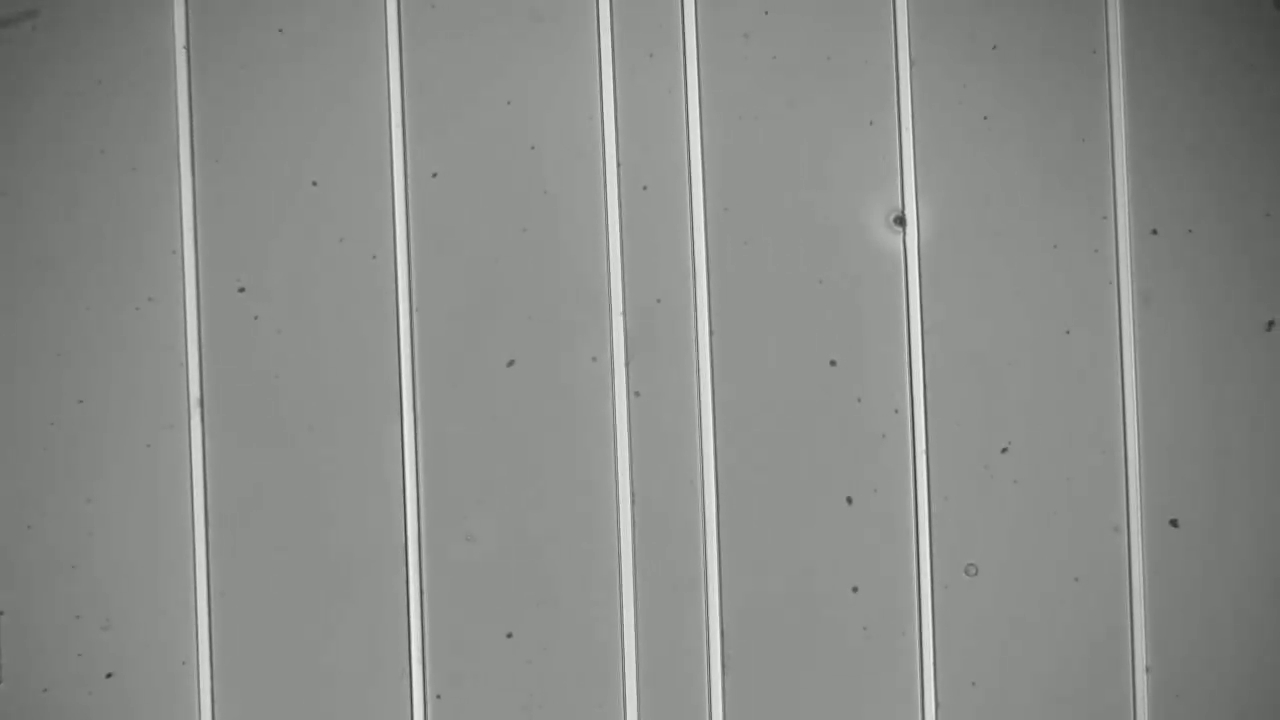stains_enbedded: (886, 205, 920, 243)
